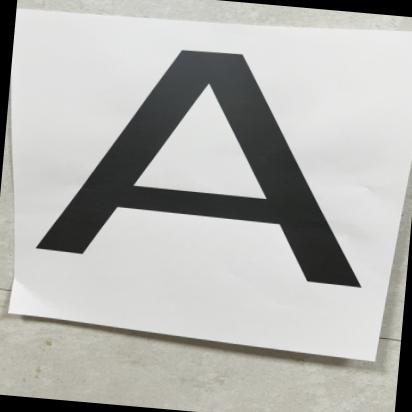seat: (14, 20, 401, 324)
